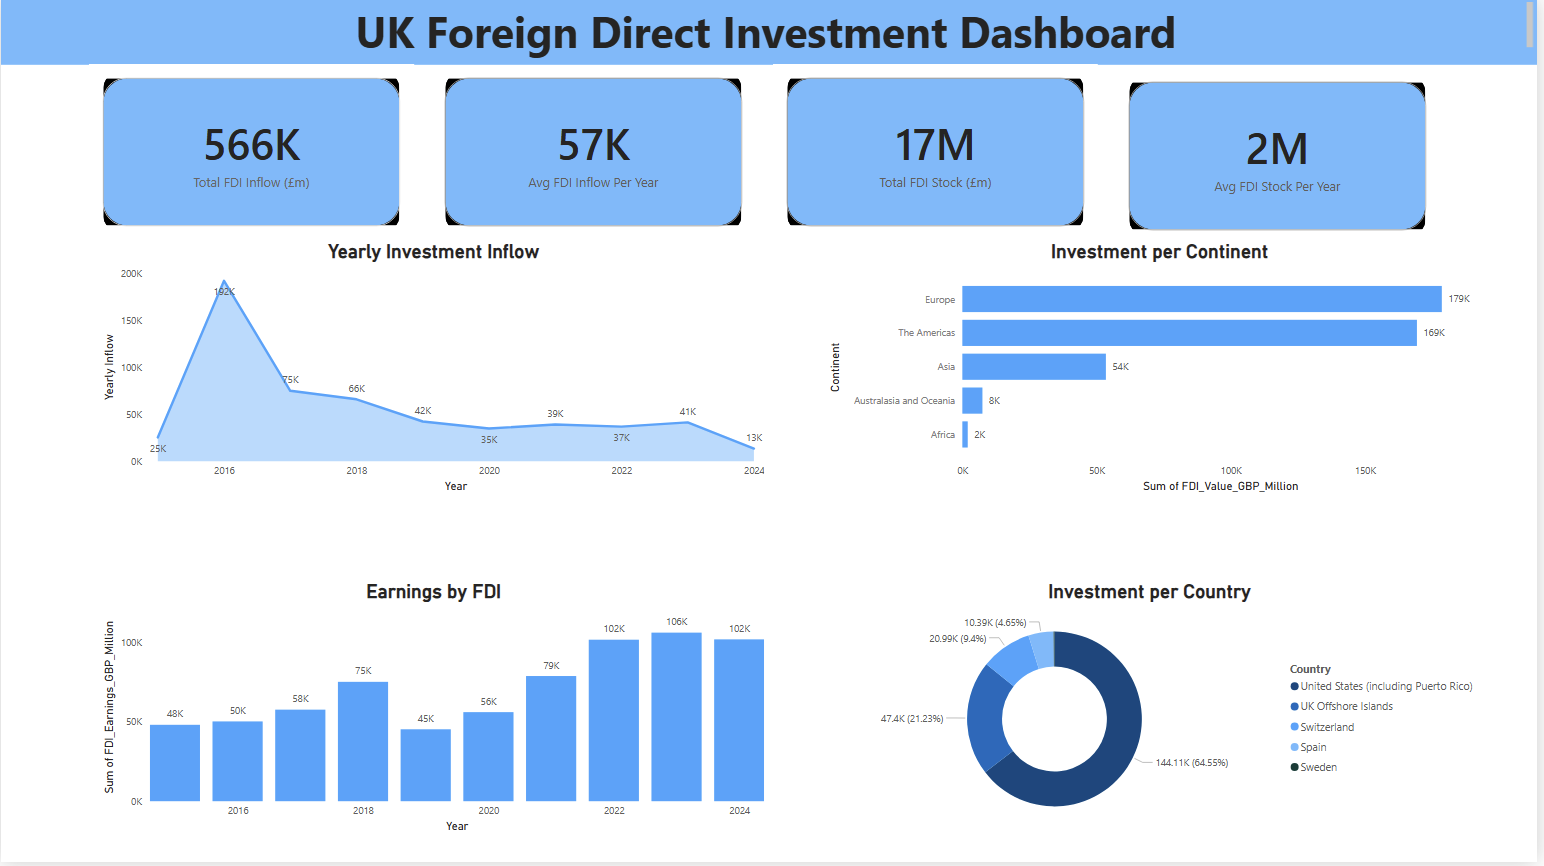

This screenshot's page, from the dashboard's own definition file:
{"tool":"powerbi","page":{"name":"Executive Page","canvas":[1920,1080],"ordinal":0},"visuals":[{"type":"cardVisual","fields":{"Data":["Avg(Fact_FDI_Flows.FDI_Inflow_GBP_Million)"]},"box":[538.2,83.3,406,220],"z":0},{"type":"textbox","box":[0,0,1920,83.3],"z":1000},{"type":"cardVisual","fields":{"Data":["Fact_FDI_Stock.Total FDI Stock (£m)"]},"box":[965.8,83.3,406,220],"z":2000},{"type":"cardVisual","fields":{"Data":["Avg(Fact_FDI_Stock.FDI_Stock_GBP_Million)"]},"box":[1393.3,86.7,406.7,220],"z":3000},{"type":"cardVisual","fields":{"Data":["Fact_FDI_Flows.Total FDI Inflow (£m)"]},"box":[110,83.3,406.7,220],"z":4000},{"type":"lineChart","title":"Yearly Investment Inflow ","fields":{"Y":["Sum(Fact_FDI_Flows.FDI_Inflow_GBP_Million)"],"Category":["Dim_Year.Year"]},"box":[123.3,303.3,836.7,320],"z":5000},{"type":"barChart","title":"Investment per Continent","fields":{"Y":["Sum(Fact_FDI_By_Country.FDI_Value_GBP_Million)"],"Category":["Fact_FDI_By_Country.Continent","Fact_FDI_By_Country.Country"]},"box":[1030,303.3,836.7,320],"z":6000},{"type":"columnChart","title":"Earnings by FDI","fields":{"Y":["Sum(Fact_FDI_Earnings.FDI_Earnings_GBP_Million)"],"Category":["Dim_Year.Year"]},"box":[123.3,726.7,836.7,320],"z":7000},{"type":"donutChart","title":"Investment per Country","fields":{"Category":["Fact_FDI_By_Country.Country"],"Y":["Sum(Fact_FDI_By_Country.FDI_Value_GBP_Million)"]},"box":[1016.7,726.7,836.7,320],"z":8000}]}

Visuals, with their boxes in screenshot pixels (x1, y1, x2, y2), scaled from the page's 1920x1080 canvas onto the 1544x866 screenshot:
cardVisual - Avg(Fact_FDI_Flows.FDI_Inflow_GBP_Million): <bbox>433, 67, 759, 243</bbox>
textbox: <bbox>0, 0, 1543, 67</bbox>
cardVisual - Fact_FDI_Stock.Total FDI Stock (£m): <bbox>777, 67, 1103, 243</bbox>
cardVisual - Avg(Fact_FDI_Stock.FDI_Stock_GBP_Million): <bbox>1120, 70, 1448, 246</bbox>
cardVisual - Fact_FDI_Flows.Total FDI Inflow (£m): <bbox>88, 67, 416, 243</bbox>
"Yearly Investment Inflow " lineChart: <bbox>99, 243, 772, 500</bbox>
"Investment per Continent" barChart: <bbox>828, 243, 1501, 500</bbox>
"Earnings by FDI" columnChart: <bbox>99, 583, 772, 839</bbox>
"Investment per Country" donutChart: <bbox>818, 583, 1490, 839</bbox>
